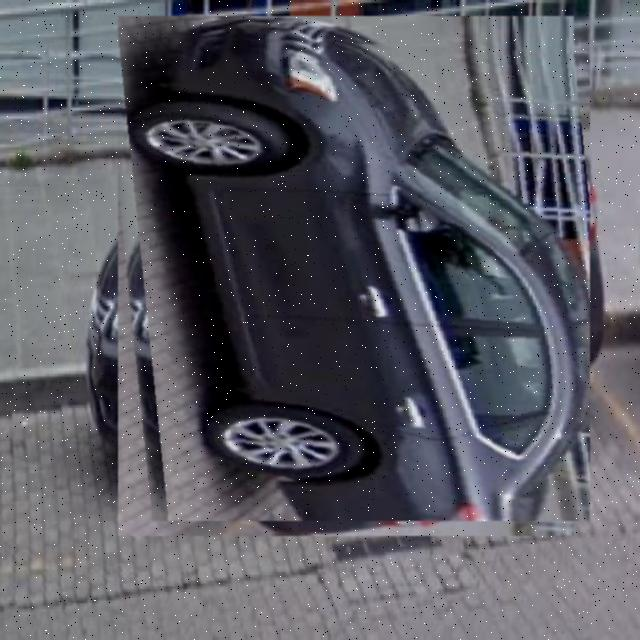car: (103, 33, 591, 522)
